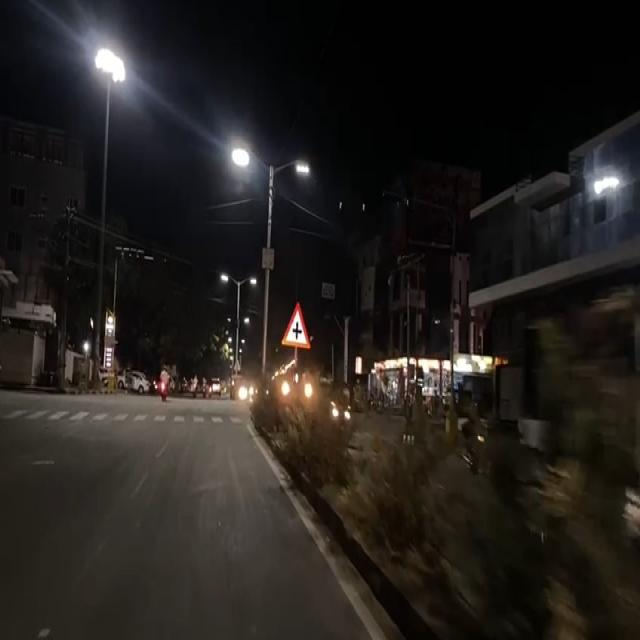bien_cam: (280, 301, 312, 352)
